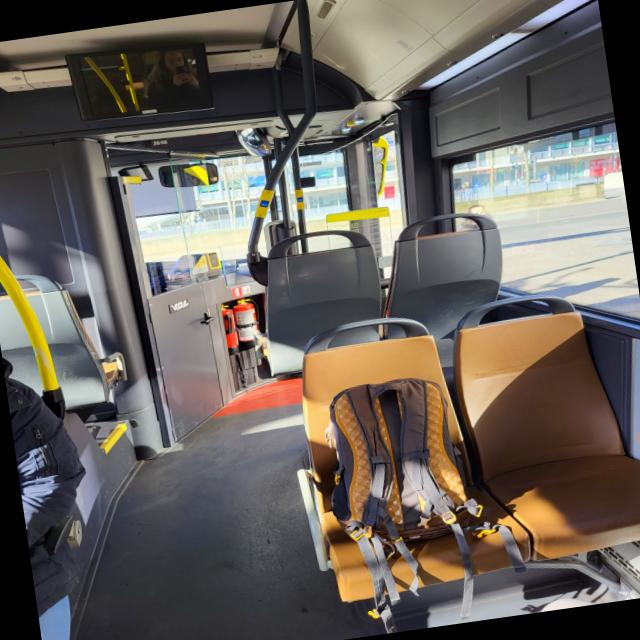empty-seat-frontal: (441, 274, 640, 571)
